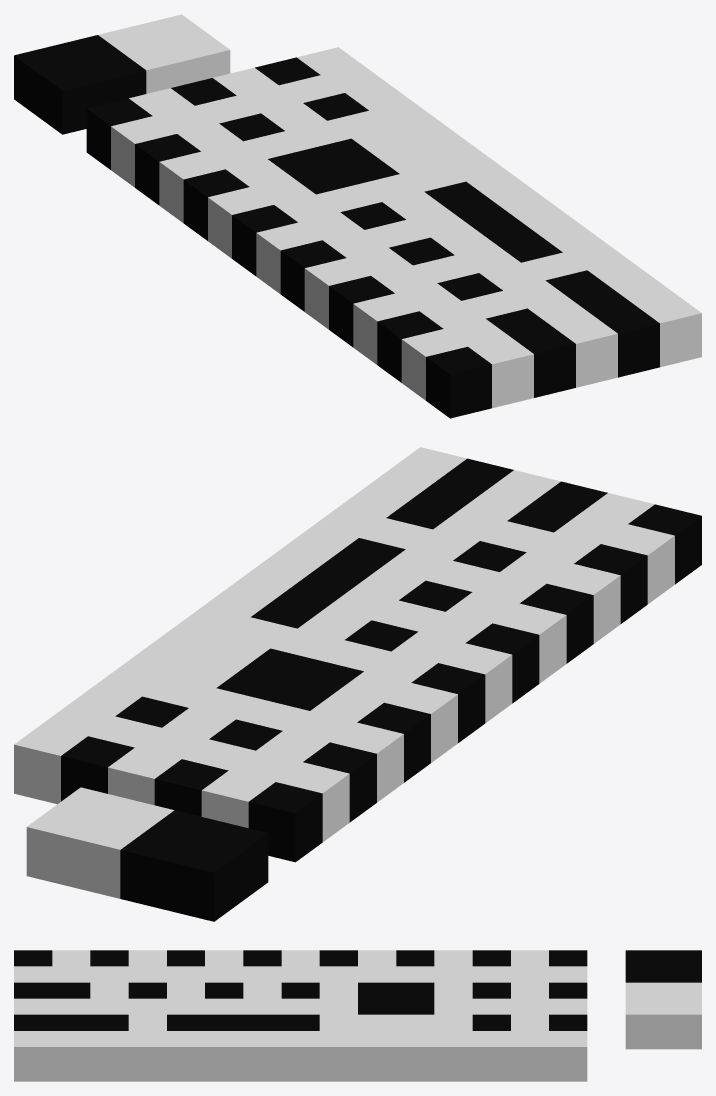
The model's file is keyboard.obj.
3 renders of one model, top to bottom at view 1: azimuth 30°, elevation 25°; view 2: azimuth 150°, elevation 25°; view 3: azimuth 270°, elevation 25°, orthographic. The views are drawn at different scales.
Size of the model in its own units: 0.6 by 0.1 by 1.8.
